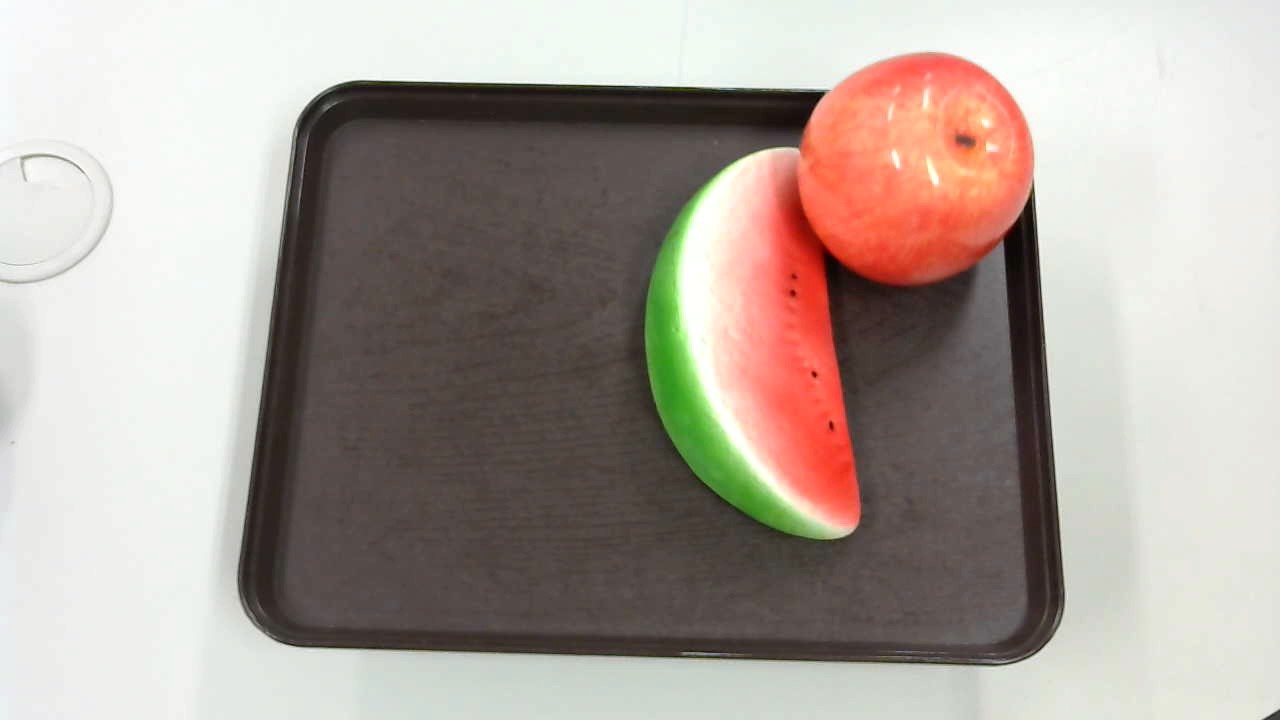red apple: (796, 51, 1031, 288)
water melon: (640, 142, 872, 546)
